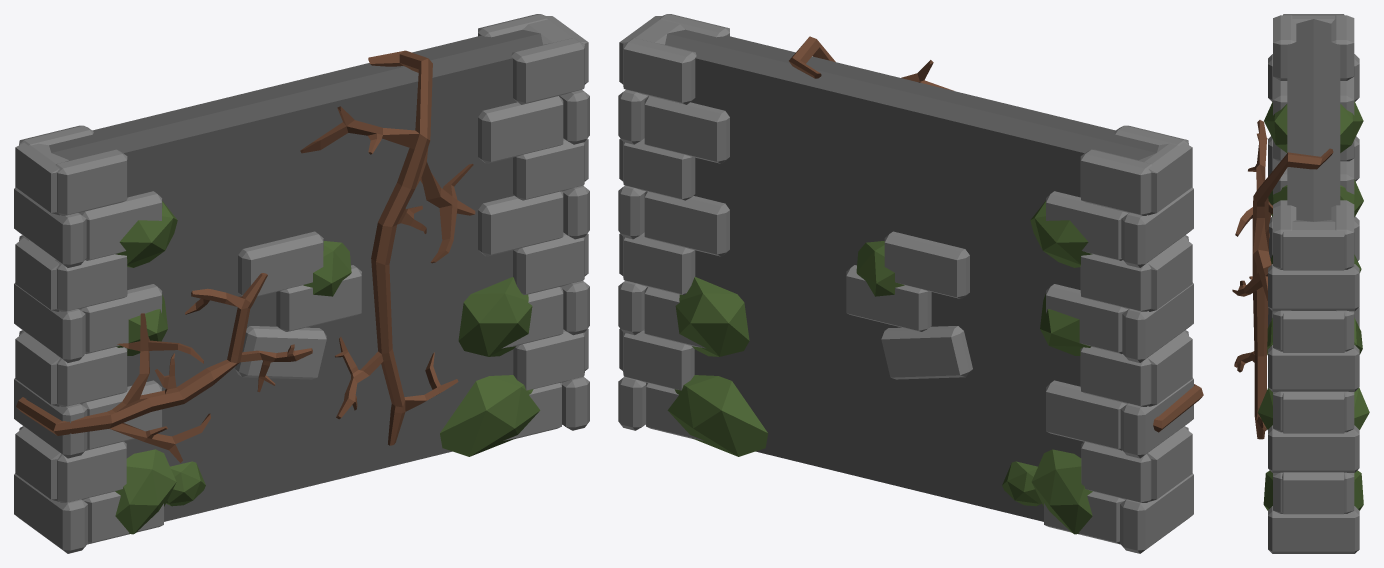
File: DungeonWallMossyOvergrown.fbx
3 views of the same model, side by side, from view 1: azimuth 30°, elevation 25°; view 2: azimuth 150°, elevation 25°; view 3: azimuth 270°, elevation 25° (orthographic). The views are drawn at different scales.
Visible parts, largest first — view 1: DungeonWallMossyOvergrown; view 2: DungeonWallMossyOvergrown; view 3: DungeonWallMossyOvergrown.
Part boxes in pixels (x1=…): DungeonWallMossyOvergrown: x1=14, y1=14, x2=589, y2=553; DungeonWallMossyOvergrown: x1=618, y1=14, x2=1203, y2=553; DungeonWallMossyOvergrown: x1=1232, y1=14, x2=1369, y2=553.
Size of the model in its own units: 524 by 372 by 136.
1 material, 1 textured.
